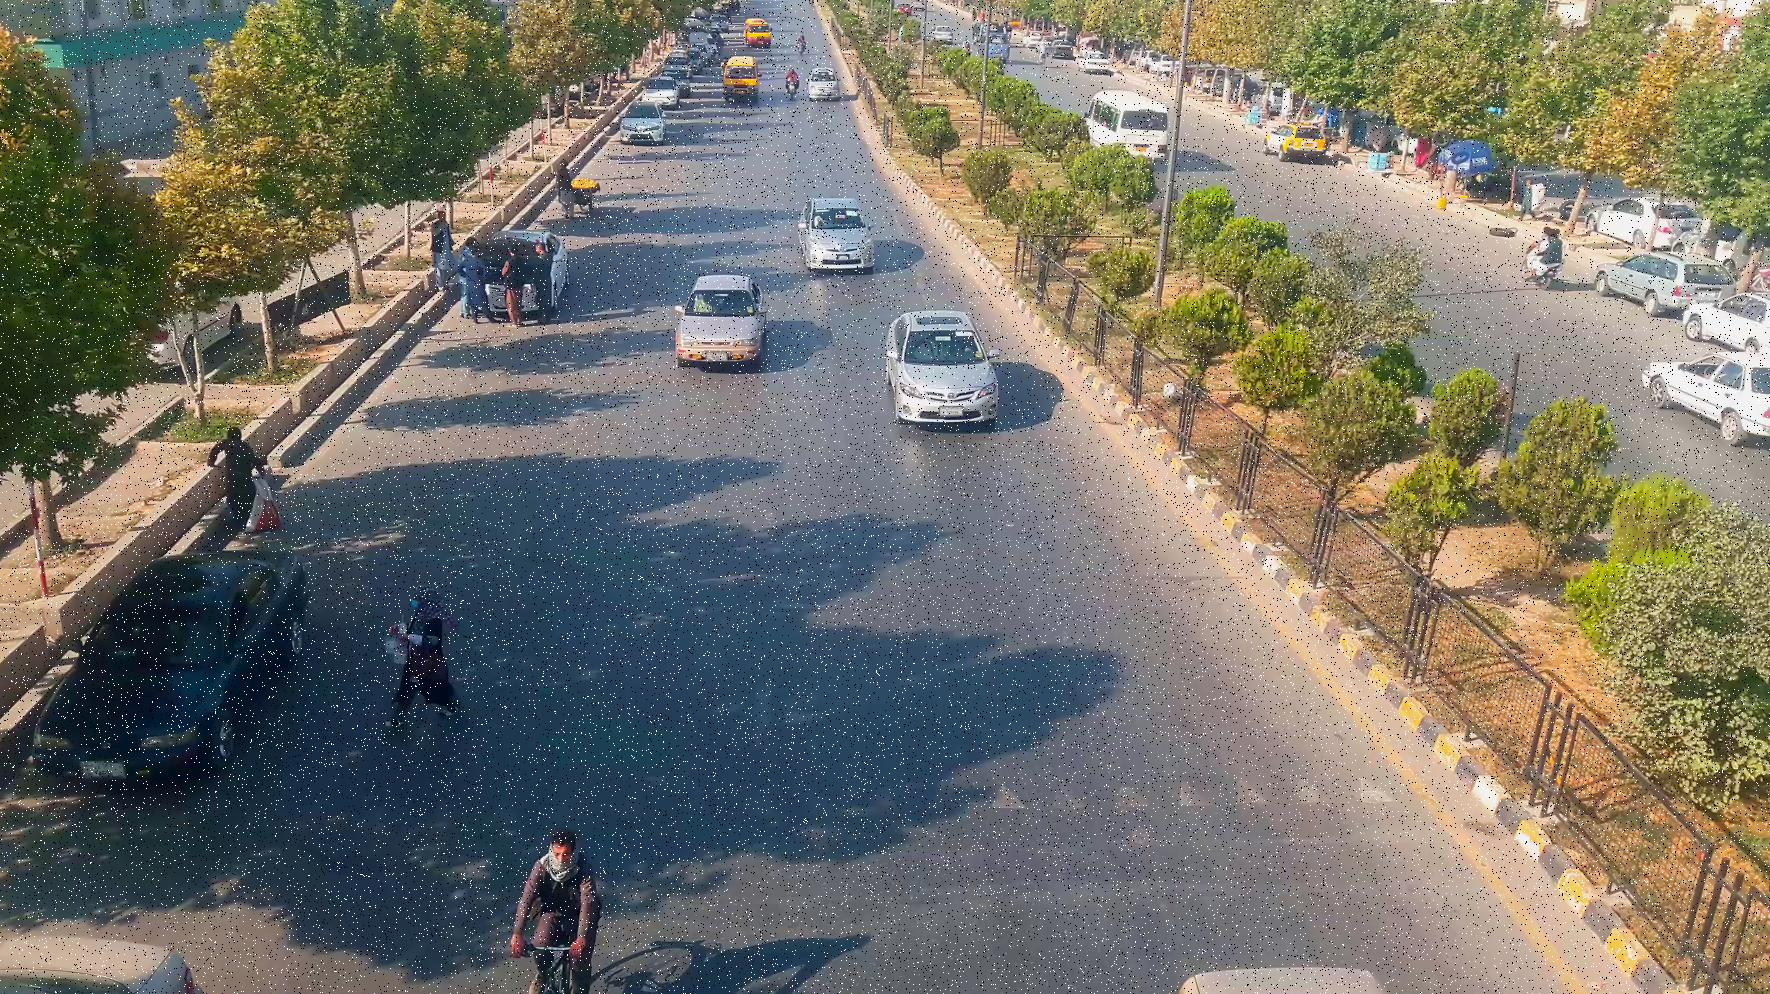bike: (1521, 227, 1565, 292), (784, 64, 799, 98)
bus: (1086, 86, 1172, 156)
car: (29, 547, 312, 784), (504, 836, 618, 994), (883, 309, 999, 424), (1648, 352, 1770, 454), (1599, 254, 1746, 316), (675, 276, 765, 371), (1684, 296, 1770, 368), (799, 202, 873, 272), (1262, 126, 1327, 159), (620, 100, 669, 140), (722, 55, 762, 100), (807, 67, 841, 105), (644, 77, 681, 103)
